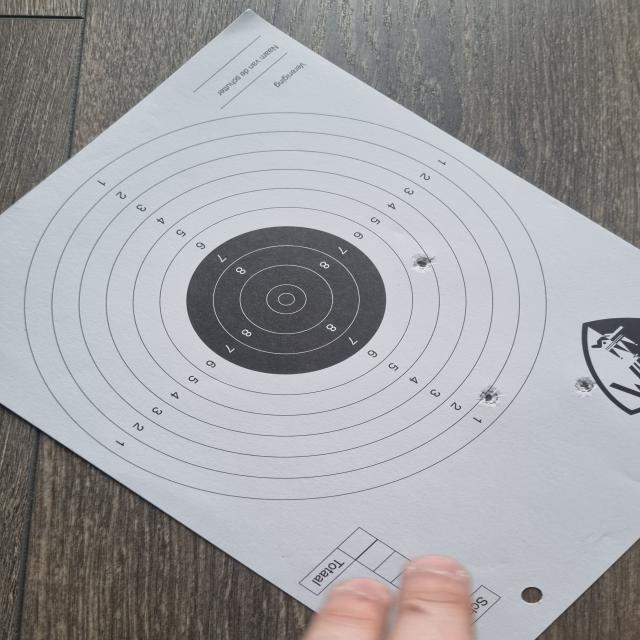3: (475, 388, 503, 404)
6: (410, 254, 436, 272)
Black Contour: (185, 226, 386, 375)
Target: (22, 112, 548, 501)
hole: (574, 377, 598, 392)
